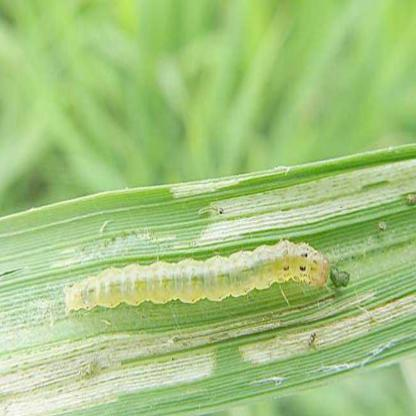leaf-folder: (59, 230, 359, 341)
